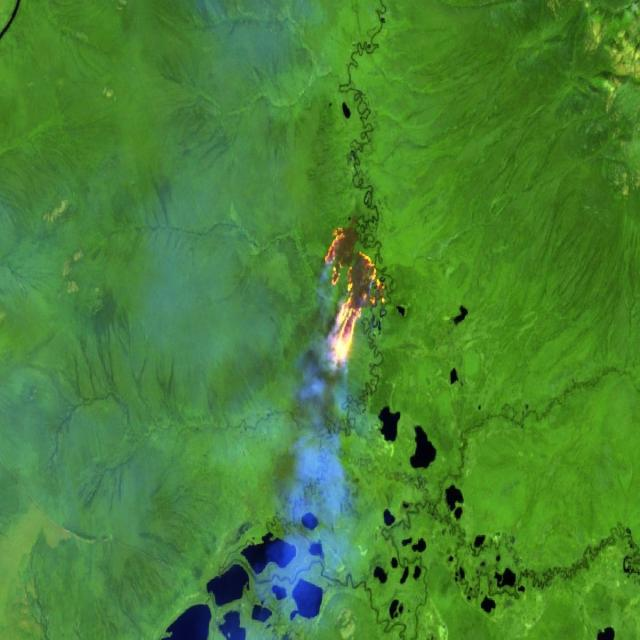fire: (320, 221, 387, 372)
